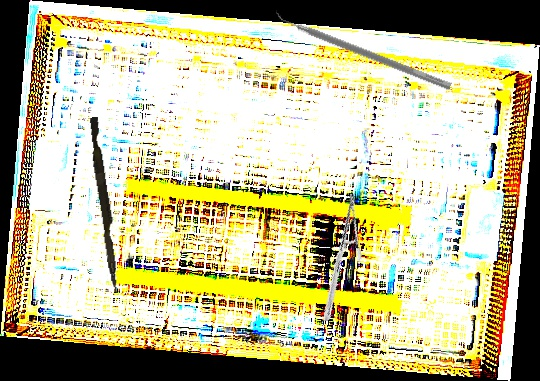Needle Holder: (290, 192, 389, 322)
Pusher: (84, 116, 126, 293)
Spatula Surgical: (271, 7, 455, 91)
